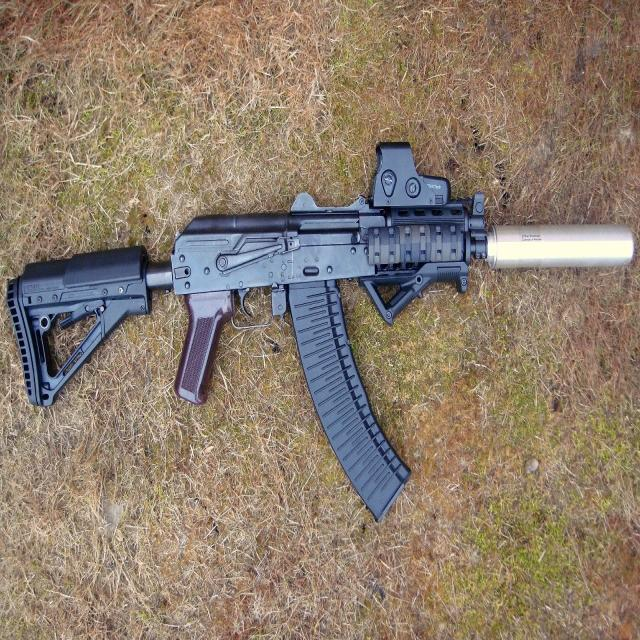firearm: (10, 141, 634, 521)
